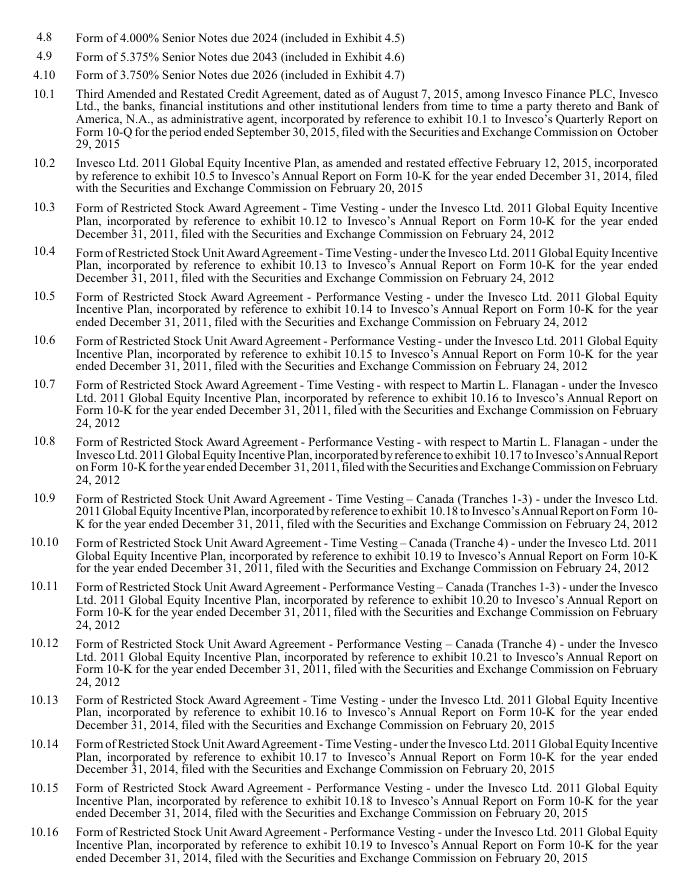table: (29, 28, 657, 863)
table column: (66, 28, 657, 863), (29, 28, 66, 863)
table row: (29, 82, 657, 152), (29, 373, 657, 430), (29, 430, 657, 487), (29, 575, 657, 632), (29, 632, 657, 689), (29, 196, 657, 241), (29, 152, 657, 196), (29, 241, 657, 285), (29, 285, 657, 329), (29, 329, 657, 373), (29, 487, 657, 531), (29, 531, 657, 575), (29, 689, 657, 733), (29, 733, 657, 777), (29, 777, 657, 821), (29, 821, 657, 863), (29, 45, 657, 64), (29, 64, 657, 82), (29, 28, 657, 45)
